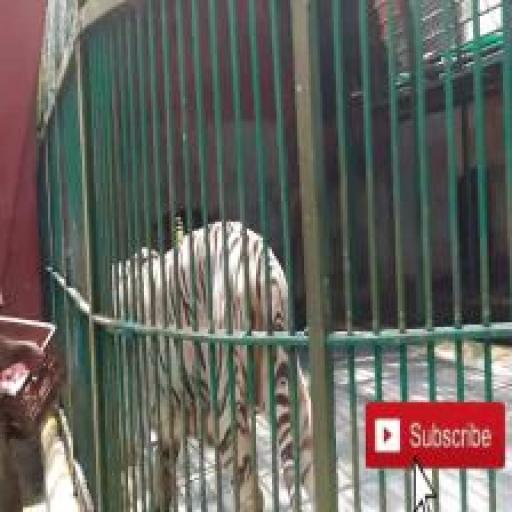Elephant: (92, 219, 313, 512)
